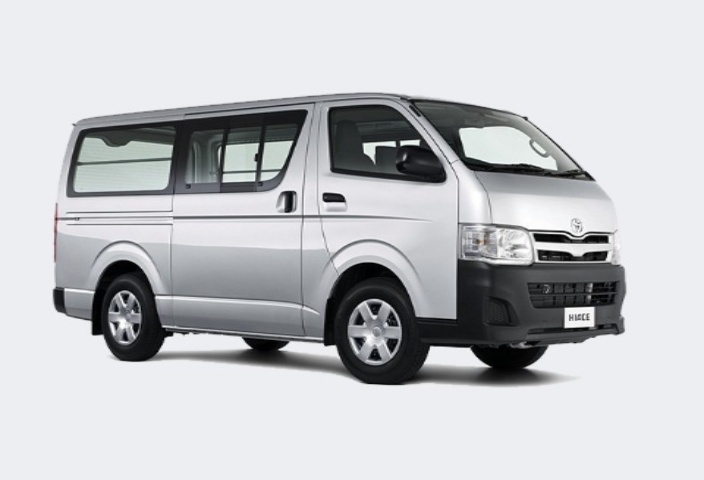van: (16, 96, 637, 379)
